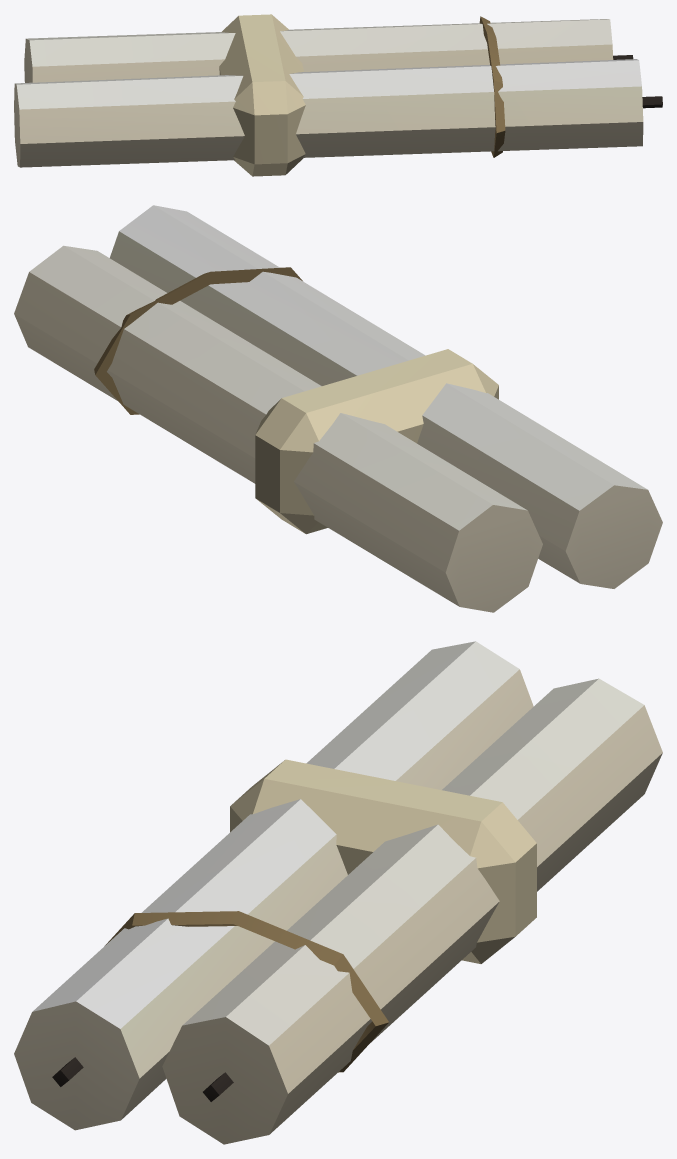
The model's file is ph_item_altar_candle.glb.
3 views of the same model, one above another, from view 1: azimuth 30°, elevation 25°; view 2: azimuth 150°, elevation 25°; view 3: azimuth 270°, elevation 25° (orthographic). The views are drawn at different scales.
Visible parts, largest first — view 1: ph_item_altar_candle; view 2: ph_item_altar_candle; view 3: ph_item_altar_candle.
Boxes of the visible parts, box(x1,y1,x2,y2) form: ph_item_altar_candle: box(14, 14, 662, 176); ph_item_altar_candle: box(14, 205, 662, 612); ph_item_altar_candle: box(14, 641, 662, 1144).
Size of the model in its own units: 0.3042 by 0.0572 by 0.206.
